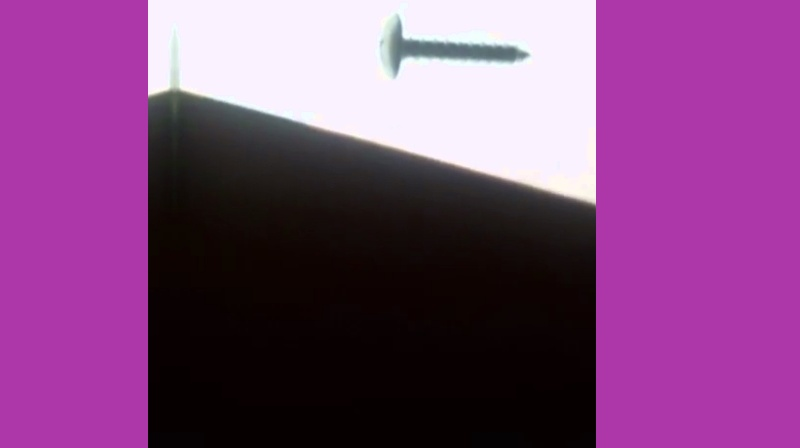S003: (372, 11, 532, 83)
